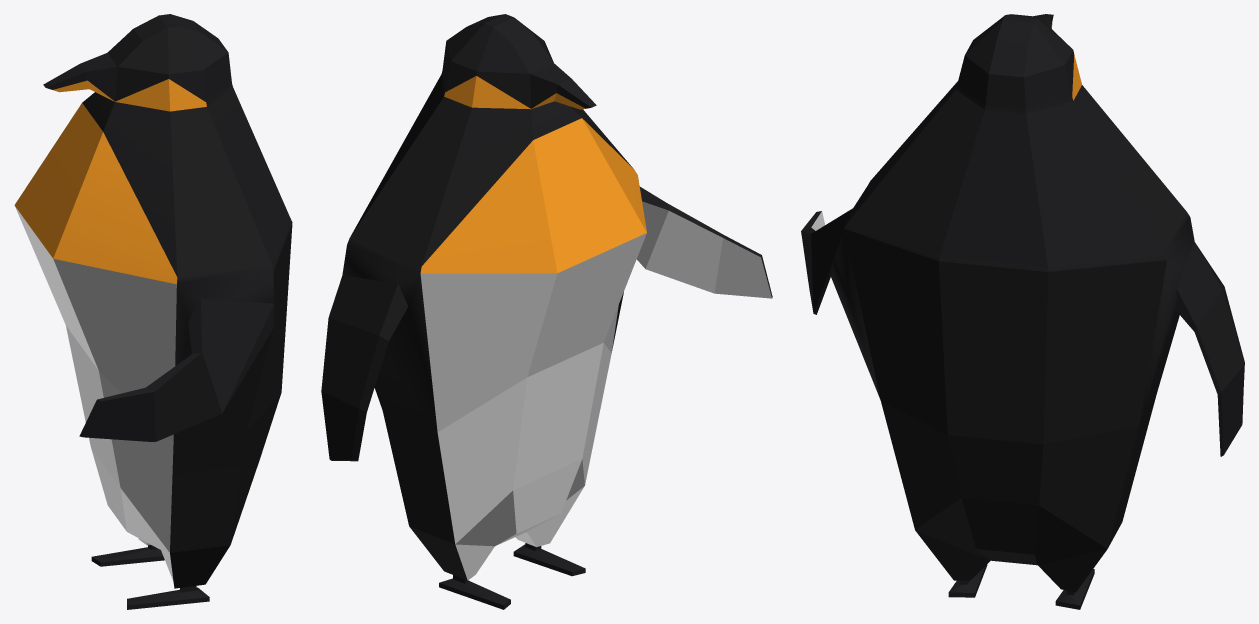
The model's file is defaultP.glb.
3 views of the same model, side by side, from view 1: azimuth 30°, elevation 25°; view 2: azimuth 150°, elevation 25°; view 3: azimuth 270°, elevation 25° (orthographic). The views are drawn at different scales.
Visible parts, largest first — view 1: Penguin_Guard_Penguin_Black_0, Penguin_Guard_Penguin_White_0, Penguin_Guard_Penguin_Orange_0; view 2: Penguin_Guard_Penguin_Black_0, Penguin_Guard_Penguin_White_0, Penguin_Guard_Penguin_Orange_0; view 3: Penguin_Guard_Penguin_Black_0.
Part boxes in pixels (x1,y1,x2,y2): Penguin_Guard_Penguin_Black_0: [43, 14, 292, 609]; Penguin_Guard_Penguin_White_0: [15, 206, 176, 584]; Penguin_Guard_Penguin_Orange_0: [14, 79, 206, 284]; Penguin_Guard_Penguin_Black_0: [321, 14, 772, 609]; Penguin_Guard_Penguin_White_0: [420, 201, 771, 580]; Penguin_Guard_Penguin_Orange_0: [420, 76, 646, 273]; Penguin_Guard_Penguin_Black_0: [801, 14, 1244, 609].
Bounding box in the file's own units: 12.39 × 22.92 × 16.04.
